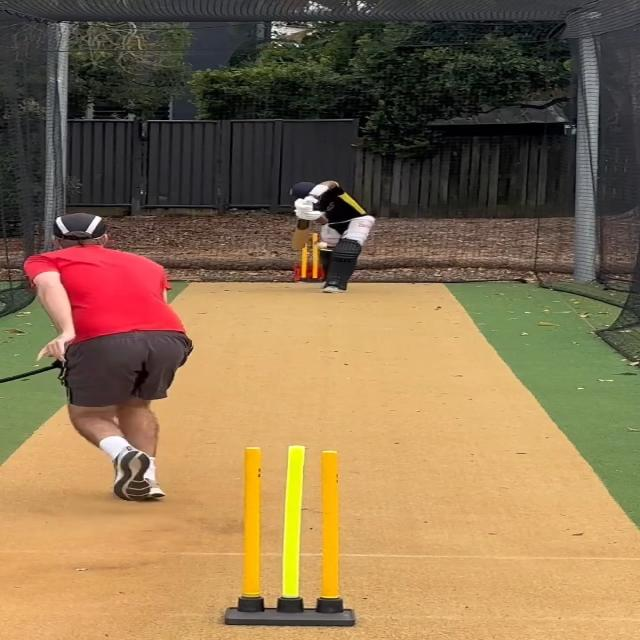ball: (315, 242, 329, 248)
stump: (225, 445, 356, 627)
